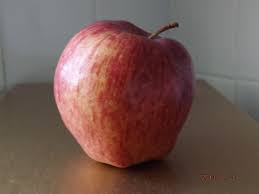apple: (57, 23, 193, 175)
